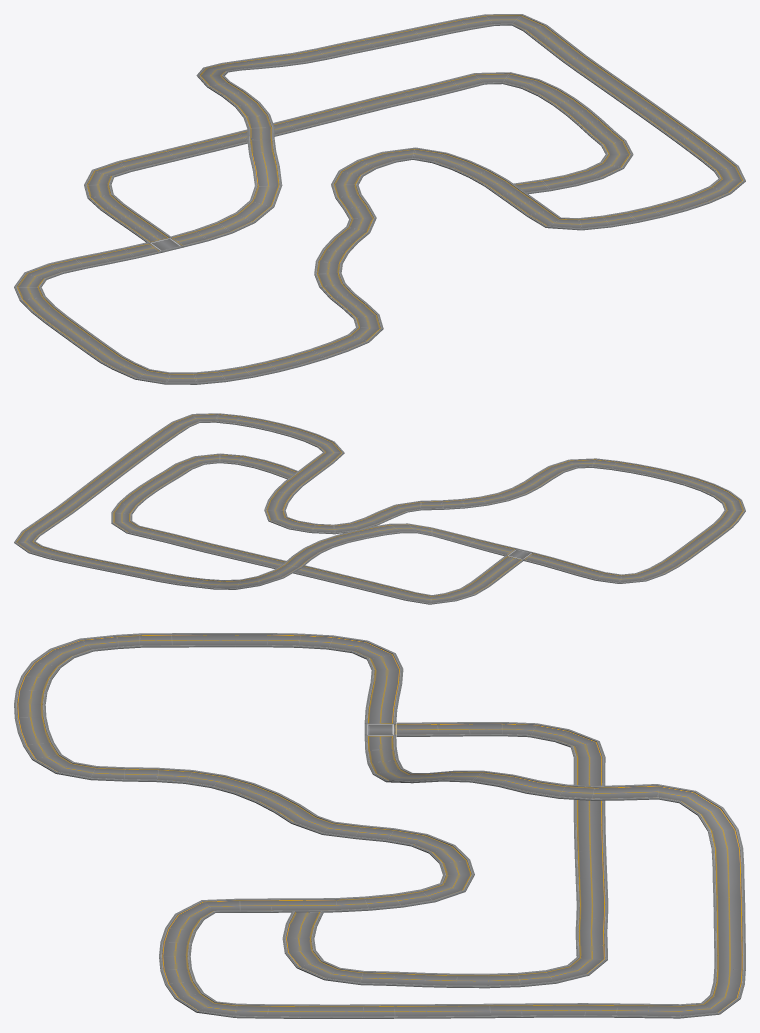
The model's file is carretera nueva.fbx.
3 views of the same model, one above another, from view 1: azimuth 30°, elevation 25°; view 2: azimuth 150°, elevation 25°; view 3: azimuth 270°, elevation 25° (orthographic). The views are drawn at different scales.
Parts seen in each view (by area): view 1: Road2_T.005; view 2: Road2_T.005; view 3: Road2_T.005.
Boxes of the visible parts, x1,y1,x2,y2 form: Road2_T.005: (14, 14, 745, 384); Road2_T.005: (14, 413, 745, 604); Road2_T.005: (14, 633, 745, 1018).
Size of the model in its own units: 14012 by 633 by 11260.
2 materials, 2 textured.
